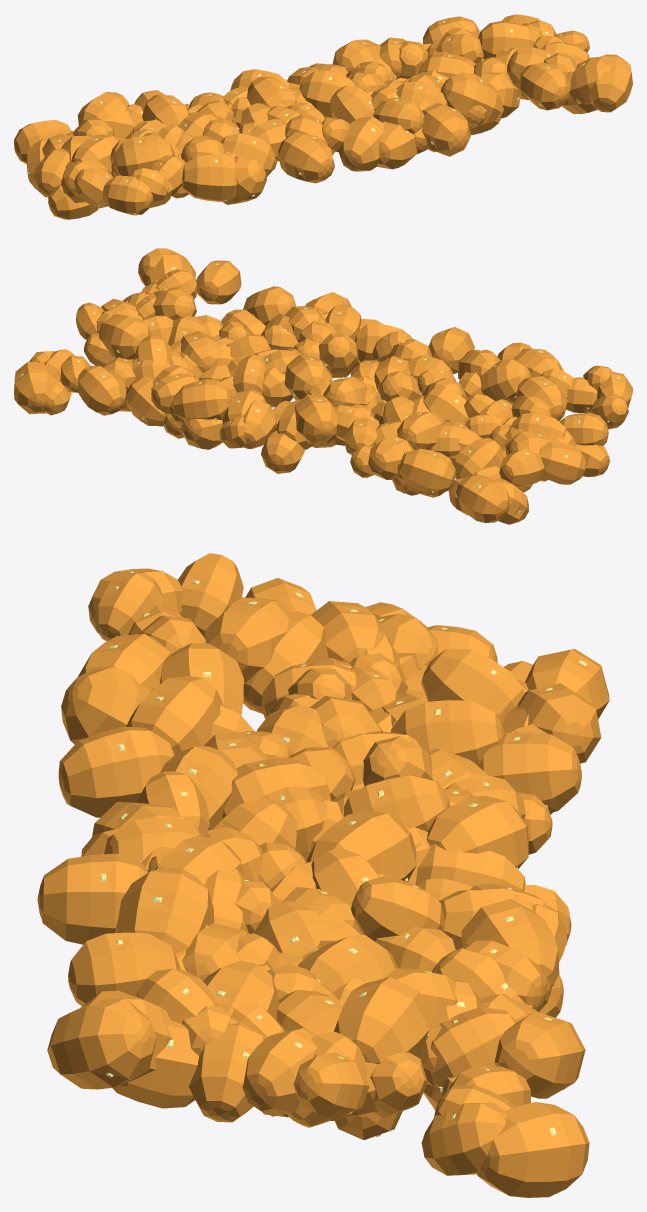
Rendered from potato.fbx.
3 renders of one model, top to bottom at view 1: azimuth 30°, elevation 25°; view 2: azimuth 150°, elevation 25°; view 3: azimuth 270°, elevation 25°, orthographic. The views are drawn at different scales.
Visible parts, largest first — view 1: Potato_Circle.153; view 2: Potato_Circle.153; view 3: Potato_Circle.153.
Part boxes in pixels (<box>): Potato_Circle.153: <box>14,14,632,219</box>; Potato_Circle.153: <box>14,248,632,524</box>; Potato_Circle.153: <box>37,553,609,1197</box>.
Bounding box in the file's own units: 1207 × 202 × 558.
